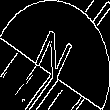N_SW: (31, 23, 79, 87)
